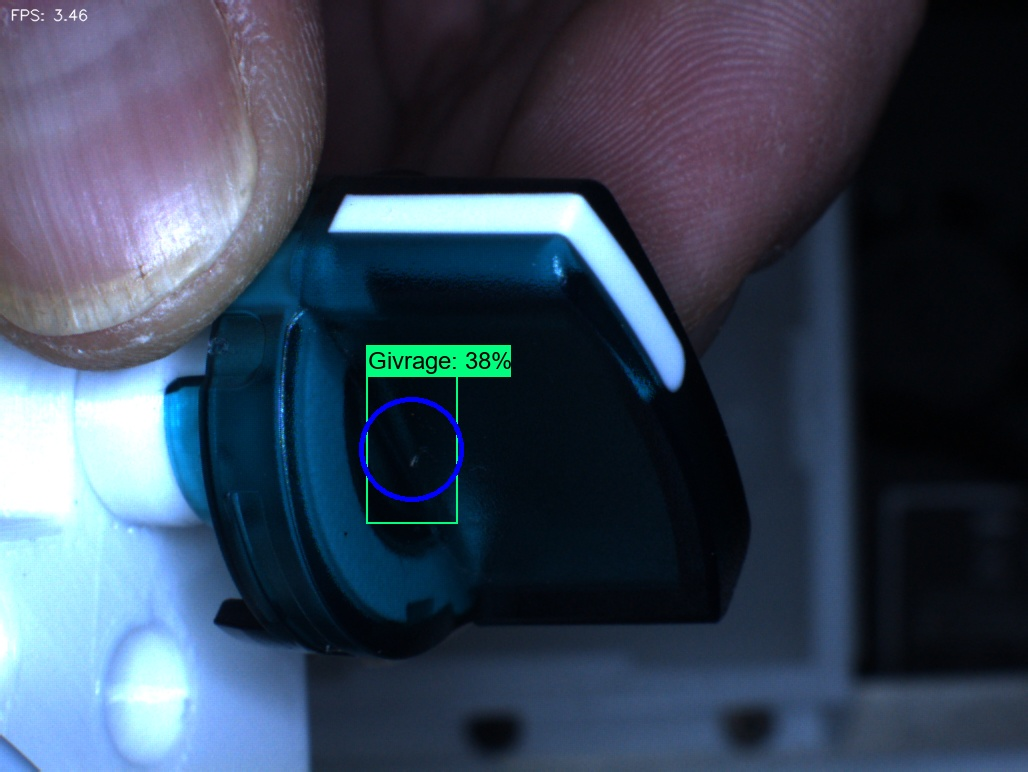PointNoir: (313, 488, 382, 565)
